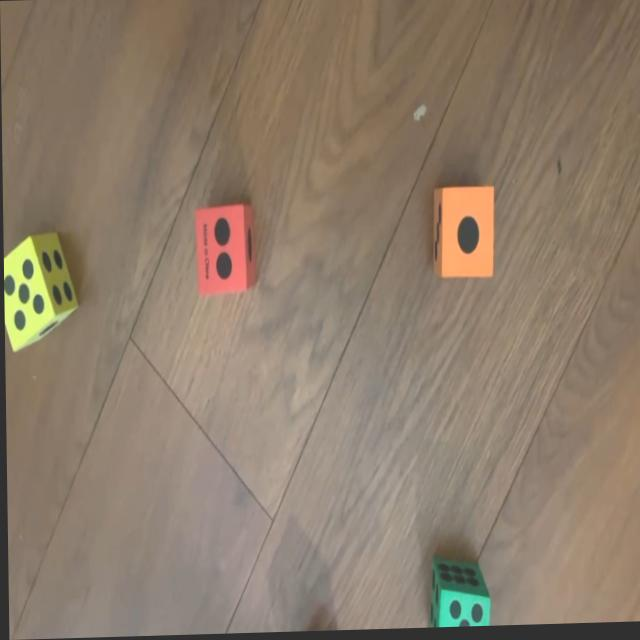red_block: (193, 203, 254, 296)
